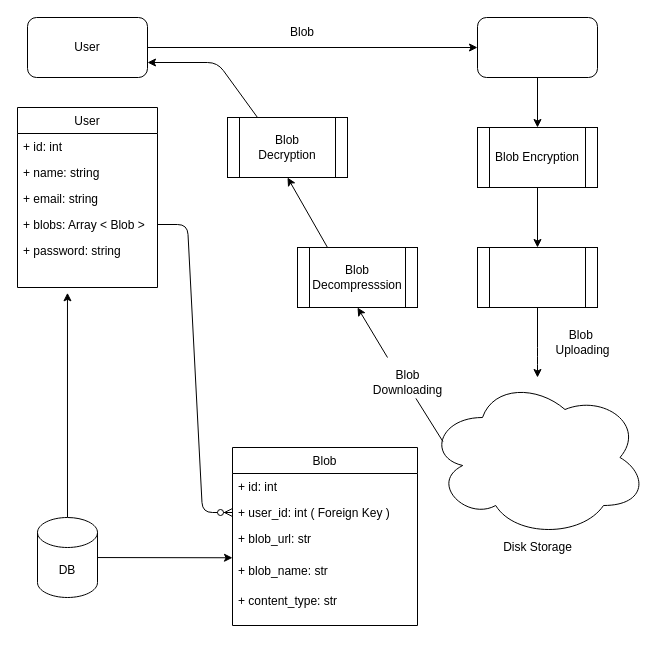
This 665x646 diagram has some shape labels left out. Here are the shapes that lost their labels. From the top down, the centre of each, then its label:
At point 537,47: "fastApi Server".
At point 537,277: "Blob Compresssion".
At point 537,457: "Compressed and Encrypted Blob".
